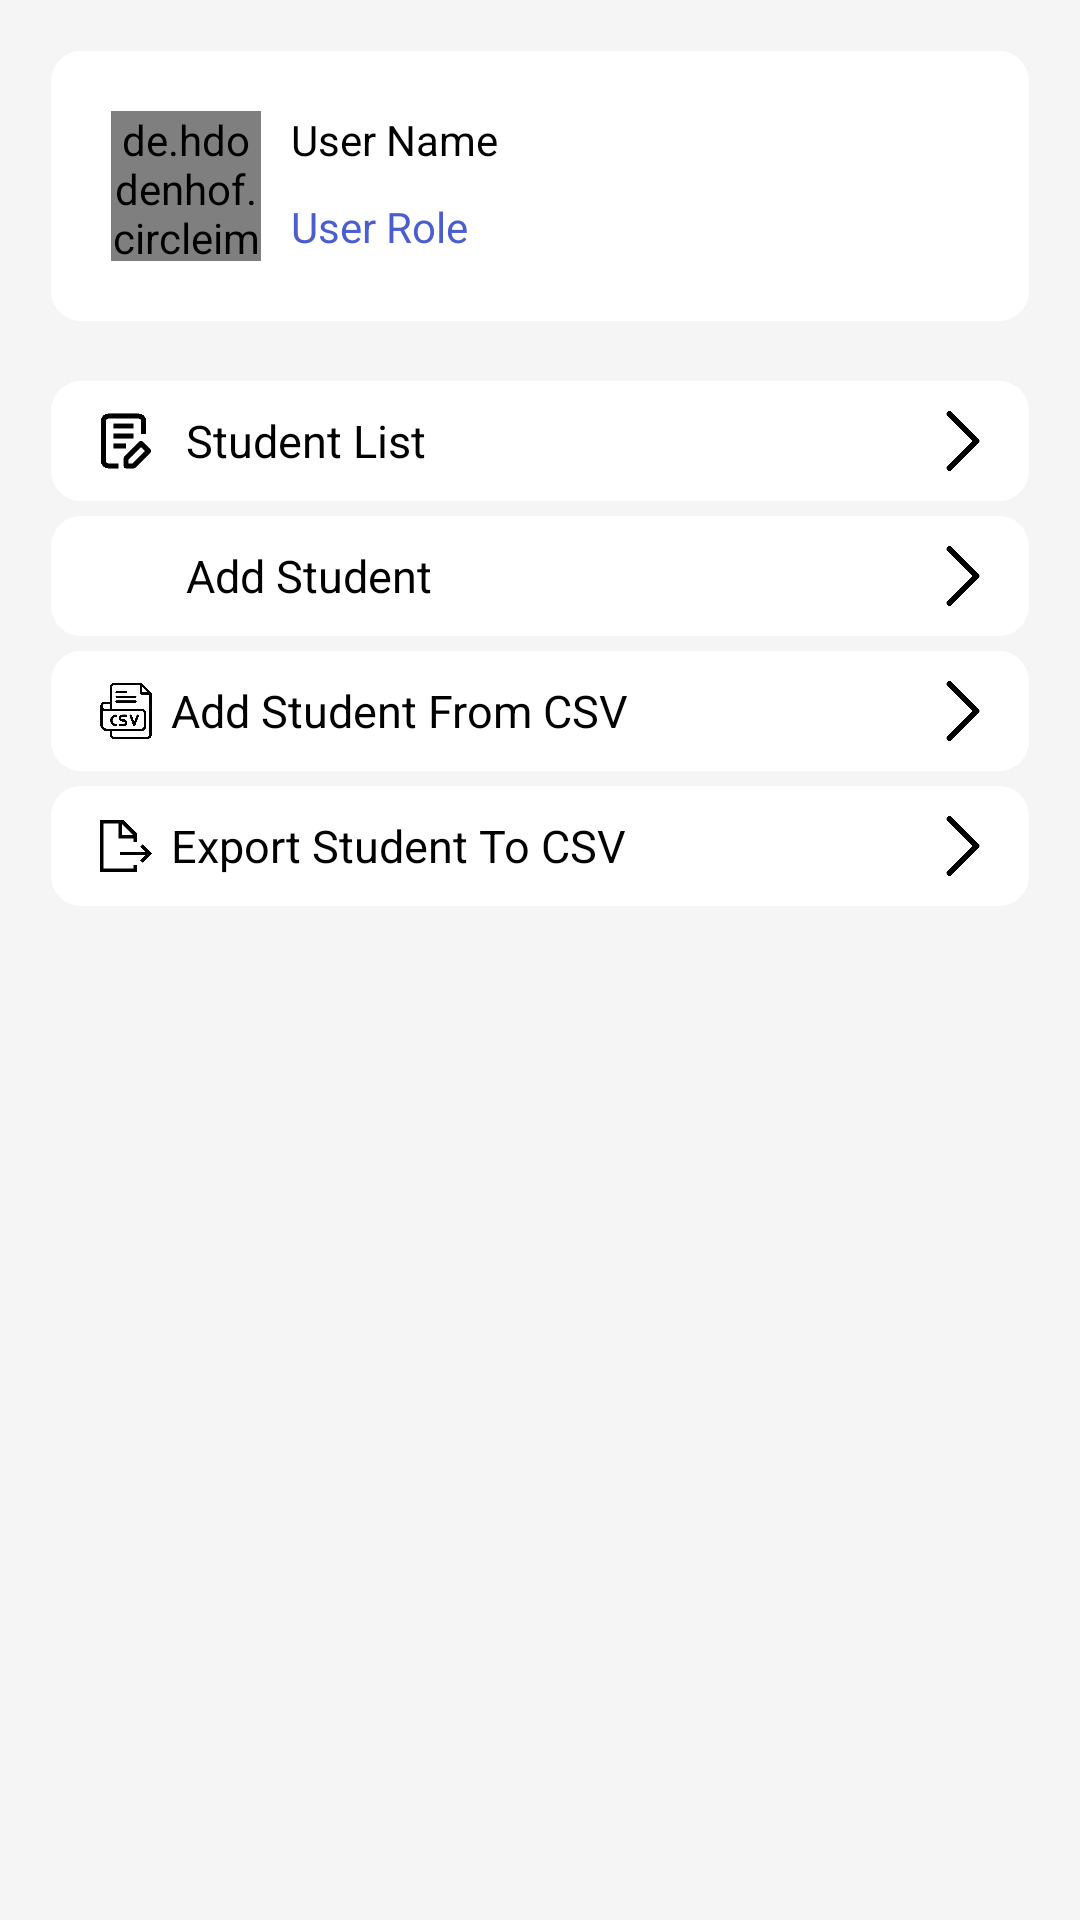

Point at icon controls on the screen. Image size 1080×1920, points as [x,y].
forward: [963,441], [963,576], [963,711], [963,846]
